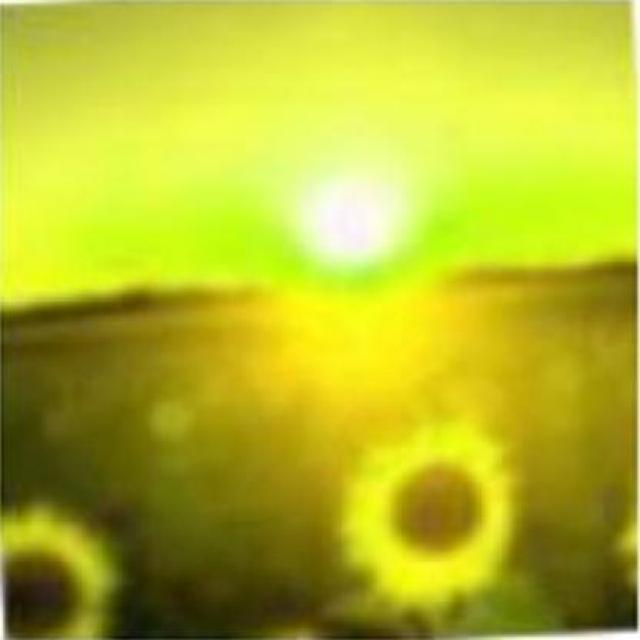sunflower: (335, 408, 519, 613), (0, 504, 121, 640)
